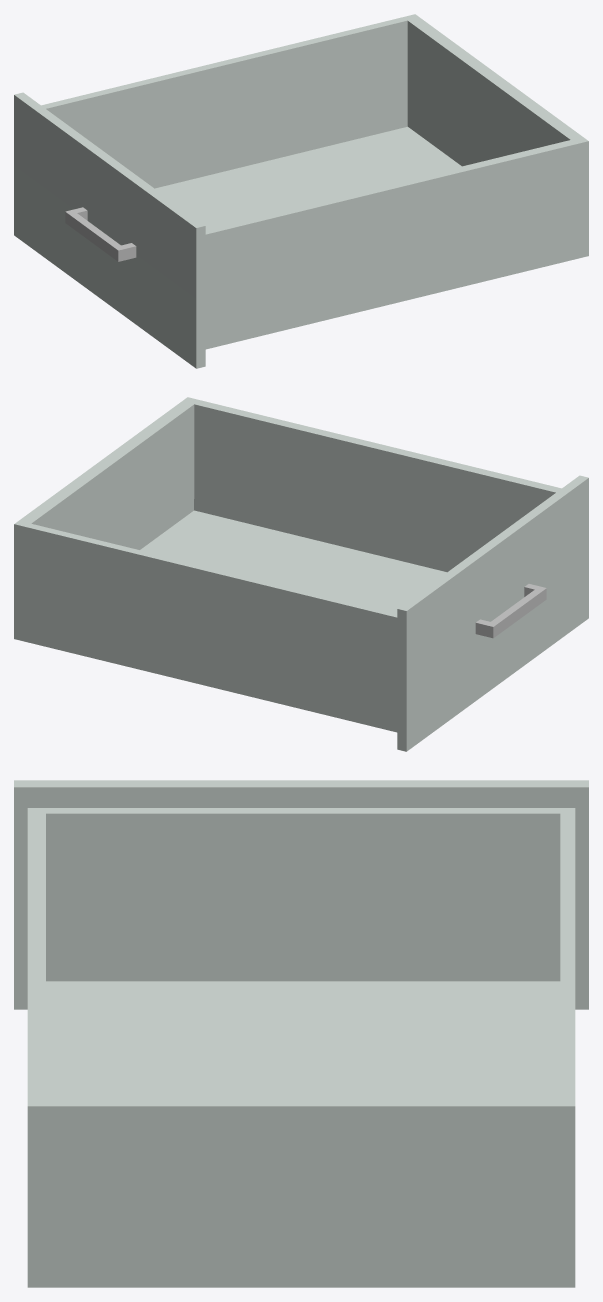
The model's file is SM_Table_Box_A_02.fbx.
3 views of the same model, one above another, from view 1: azimuth 30°, elevation 25°; view 2: azimuth 150°, elevation 25°; view 3: azimuth 270°, elevation 25° (orthographic). The views are drawn at different scales.
Visible parts, largest first — view 1: SM_Table_Box_A_02; view 2: SM_Table_Box_A_02; view 3: SM_Table_Box_A_02.
Boxes of the visible parts, left/top/right/bottom form: SM_Table_Box_A_02: left=14, top=14, right=588, bottom=368; SM_Table_Box_A_02: left=14, top=397, right=588, bottom=751; SM_Table_Box_A_02: left=14, top=780, right=588, bottom=1287.
Size of the model in its own units: 47.91 by 15.53 by 36.45.
